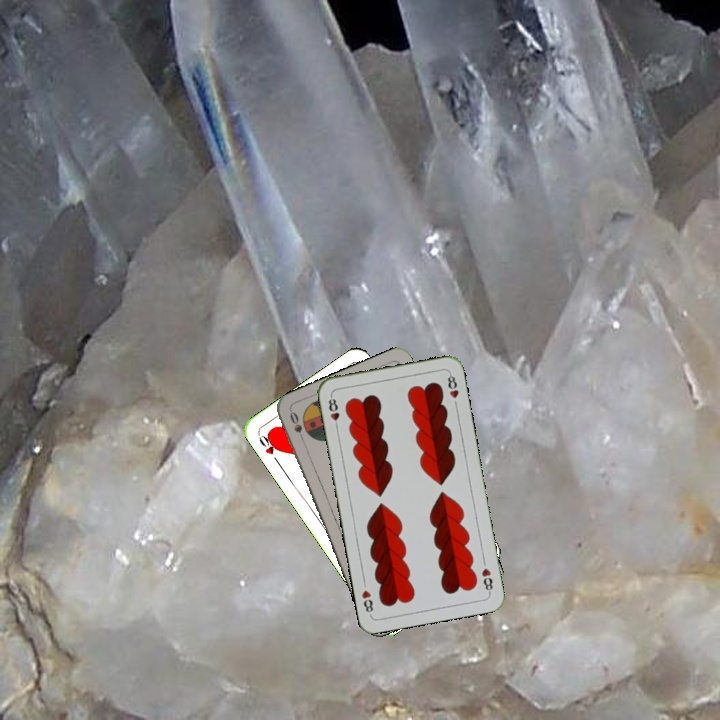H8: (324, 392, 342, 432), (477, 564, 495, 596)
HO: (254, 430, 282, 466)
SO: (286, 407, 308, 446)
